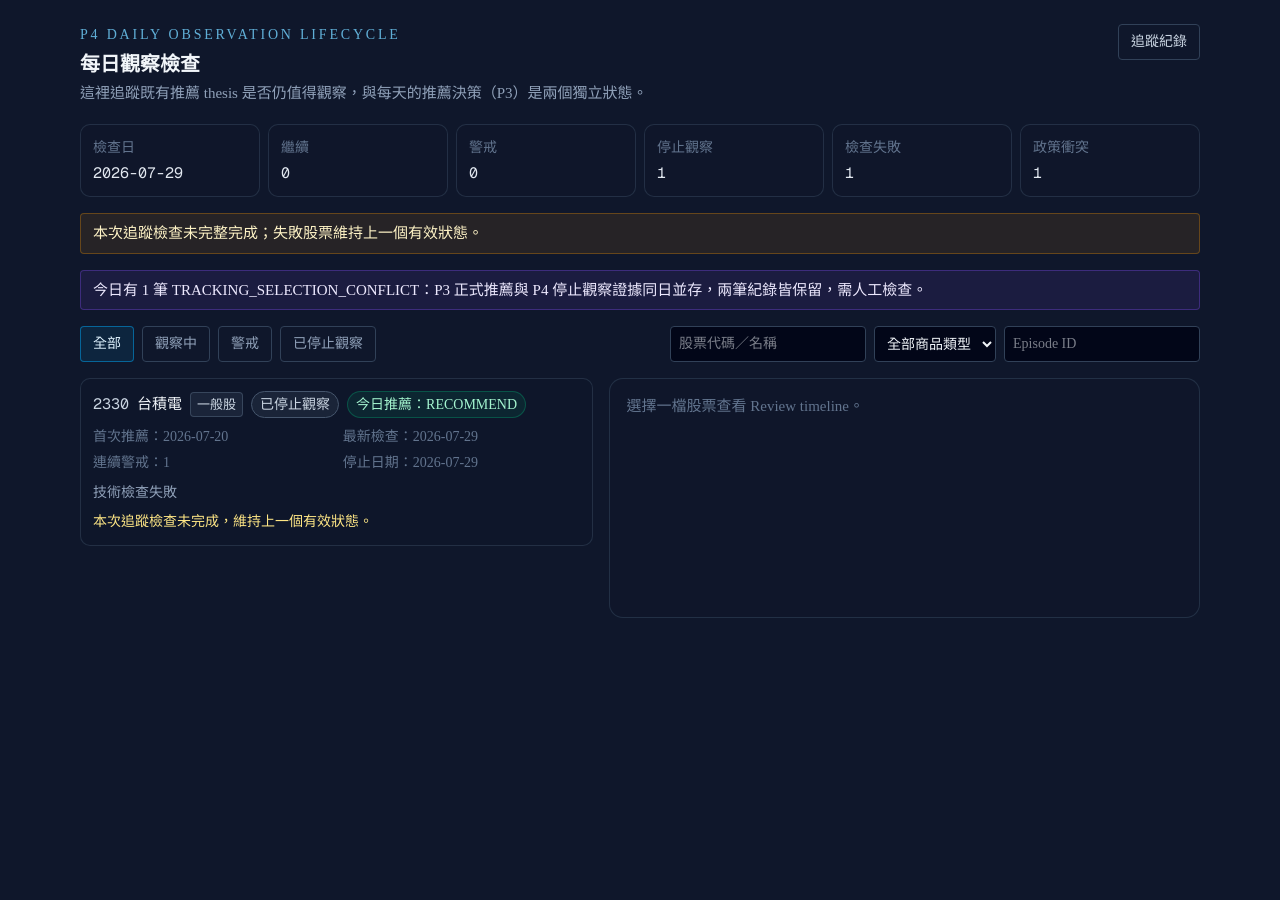
Test: SignalObservationsPage › shows conflict, technical failure, non-sell notice, timeline and multiple episodes
Expected: the text "TRACKING_SELECTION_CONFLICT" is shown, [149,282,927,298]
Expected: the text "本次追蹤檢查未完成，維持上一個有效狀態。" is shown, [93,514,373,529]
Click the text "台積電".
click(160, 405)  # box [137,393,182,416]
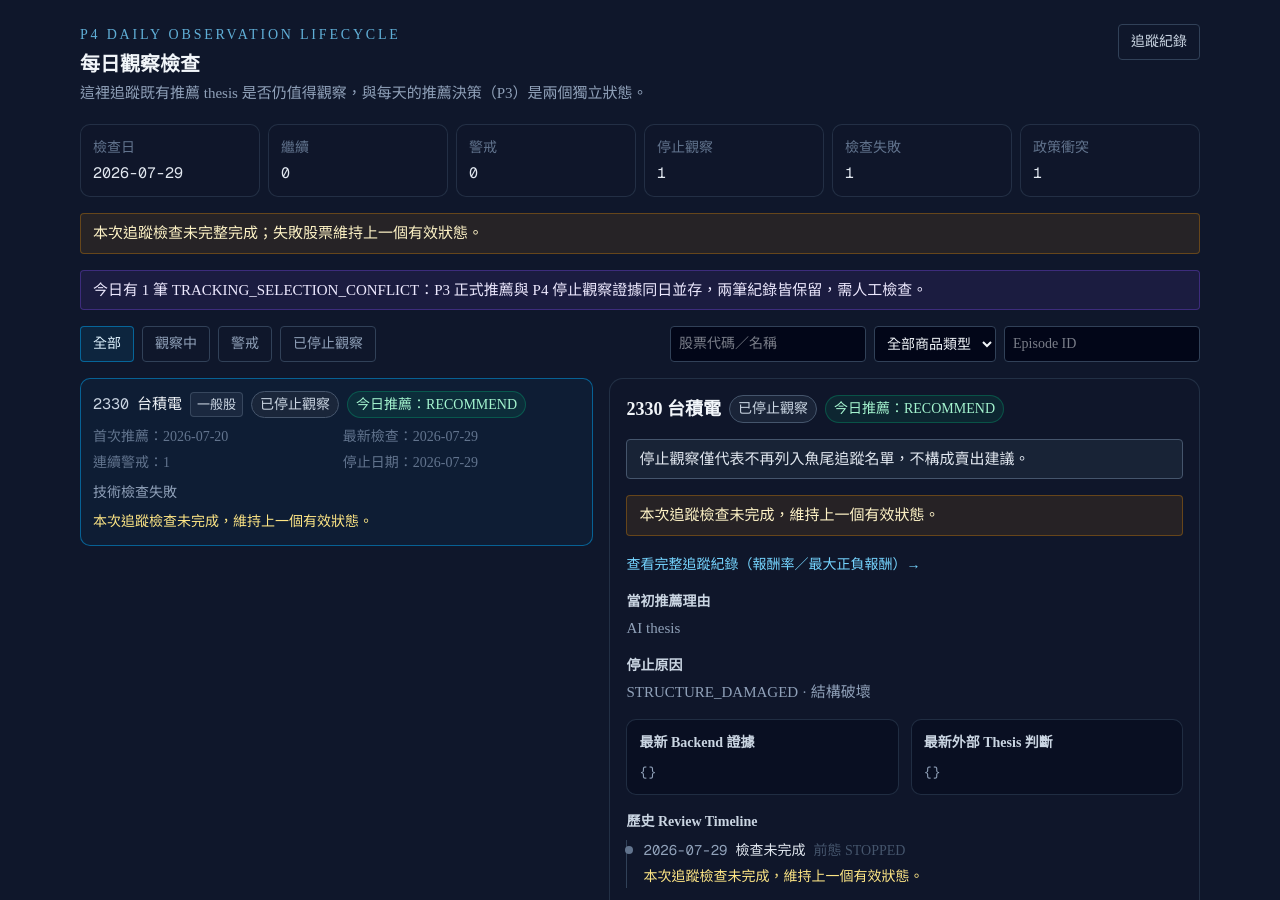
Expected: the link "追蹤紀錄" is shown, [1118,24,1200,60]
Expected: the text "停止觀察僅代表不再列入魚尾追蹤名單，不構成賣出建議。" is shown, [626,439,1183,479]
